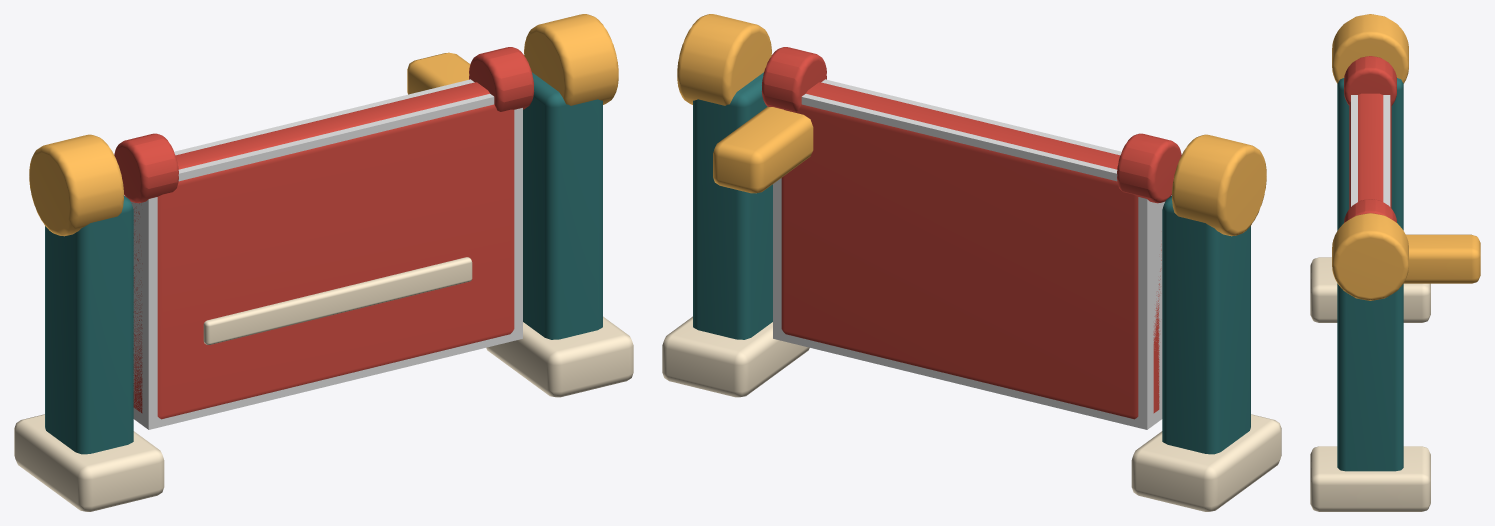
Rendered from A23_StopperGate.fbx.
3 renders of one model, left to right at view 1: azimuth 30°, elevation 25°; view 2: azimuth 150°, elevation 25°; view 3: azimuth 270°, elevation 25°, orthographic. The views are drawn at different scales.
Parts seen in each view (by area): view 1: Gate / independent tomato flap, Gate / support L, Gate / support R, COL_StopperFlap, Gate / mounting foot L, Gate / hinge cap L, Gate / mounting foot R, Gate / vanilla release stripe, Gate / hinge cap R, Gate / moving shoulder, Gate / moving shoulder.001, Gate / offset linkage lever; view 2: Gate / independent tomato flap, Gate / support L, Gate / support R, COL_StopperFlap, Gate / mounting foot L, Gate / hinge cap L, Gate / mounting foot R, Gate / hinge cap R, Gate / offset linkage lever, Gate / moving shoulder, Gate / moving shoulder.001; view 3: Gate / support R, Gate / mounting foot R, Gate / hinge cap R, Gate / offset linkage lever, Gate / hinge cap L, Gate / support L, Gate / independent tomato flap, Gate / mounting foot L, Gate / moving shoulder, COL_StopperFlap, Gate / moving shoulder.001.
Boxes of the visible parts, x1,y1,x2,y2 form: Gate / independent tomato flap: (133,82,514,419); Gate / support L: (45,195,133,454); Gate / support R: (523,72,602,339); COL_StopperFlap: (131,79,522,429); Gate / mounting foot L: (14,414,164,511); Gate / hinge cap L: (29,134,123,236); Gate / mounting foot R: (486,316,633,397); Gate / vanilla release stripe: (203,257,472,344); Gate / hinge cap R: (524,14,618,105); Gate / moving shoulder: (114,133,178,203); Gate / moving shoulder.001: (469,47,534,111); Gate / offset linkage lever: (407,52,470,94); Gate / independent tomato flap: (781,82,1161,419); Gate / support L: (1162,195,1250,454); Gate / support R: (693,72,772,339); COL_StopperFlap: (773,79,1164,429); Gate / mounting foot L: (1131,414,1281,511); Gate / hinge cap L: (1172,134,1266,236); Gate / mounting foot R: (662,316,809,397); Gate / hinge cap R: (677,14,771,105); Gate / offset linkage lever: (713,106,813,193); Gate / moving shoulder: (1117,133,1181,203); Gate / moving shoulder.001: (761,47,826,111); Gate / support R: (1337,283,1403,471); Gate / mounting foot R: (1310,446,1430,511); Gate / hinge cap R: (1332,213,1408,300); Gate / offset linkage lever: (1403,234,1480,283); Gate / hinge cap L: (1332,14,1408,83); Gate / support L: (1337,78,1403,230); Gate / independent tomato flap: (1349,93,1391,208); Gate / mounting foot L: (1310,257,1430,322); Gate / moving shoulder: (1344,56,1396,105); COL_StopperFlap: (1351,95,1390,206); Gate / moving shoulder.001: (1344,199,1396,222).
Size of the model in its own units: 0.175 by 0.1028 by 0.0565.
